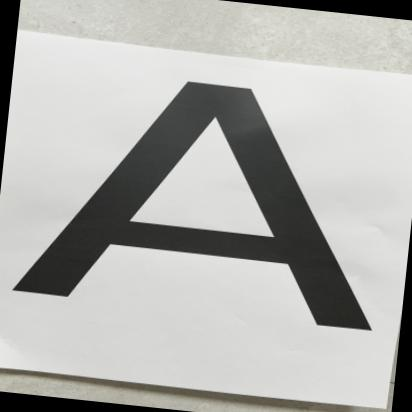seat: (1, 60, 402, 347)
